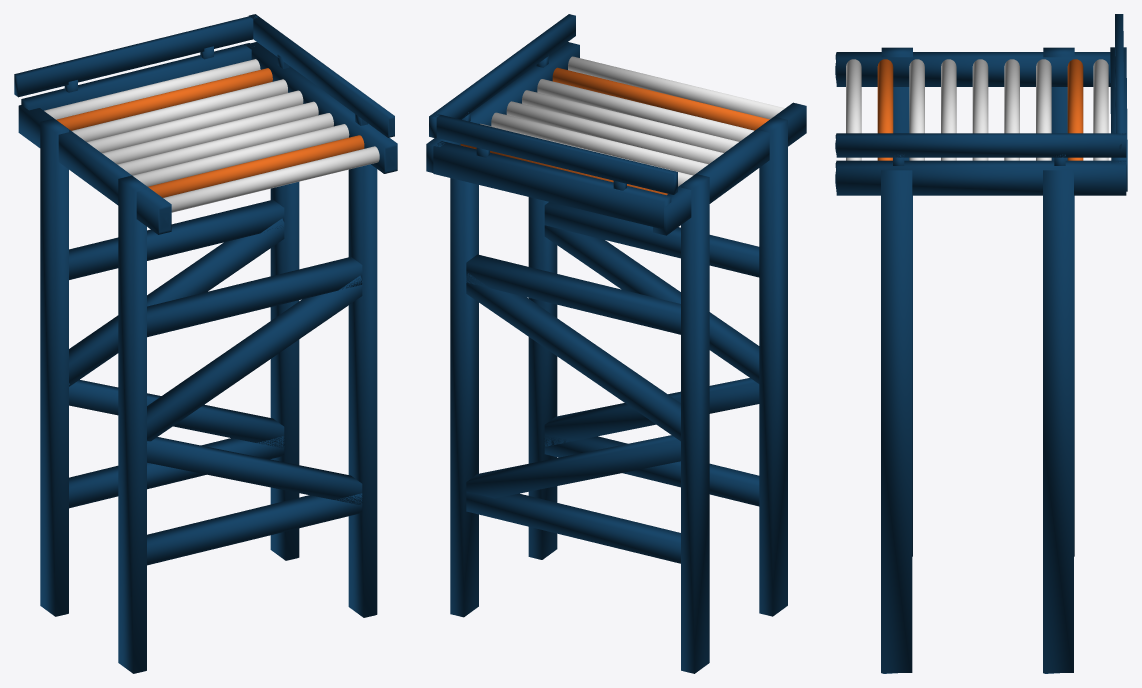
File: Tall Straight 90 Rotation conveyor.glb
The picture shows the model from 3 angles, left to right: view 1: azimuth 30°, elevation 25°; view 2: azimuth 150°, elevation 25°; view 3: azimuth 270°, elevation 25°; orthographic projection. The views are drawn at different scales.
Visible parts, largest first — view 1: Cylinder 19.028; view 2: Cylinder 19.028; view 3: Cylinder 19.028.
Boxes of the visible parts, <box> form: Cylinder 19.028: <box>14,14,397,673</box>; Cylinder 19.028: <box>426,14,806,673</box>; Cylinder 19.028: <box>835,14,1127,673</box>.
Size of the model in its own units: 8.13 by 16.31 by 8.06.
